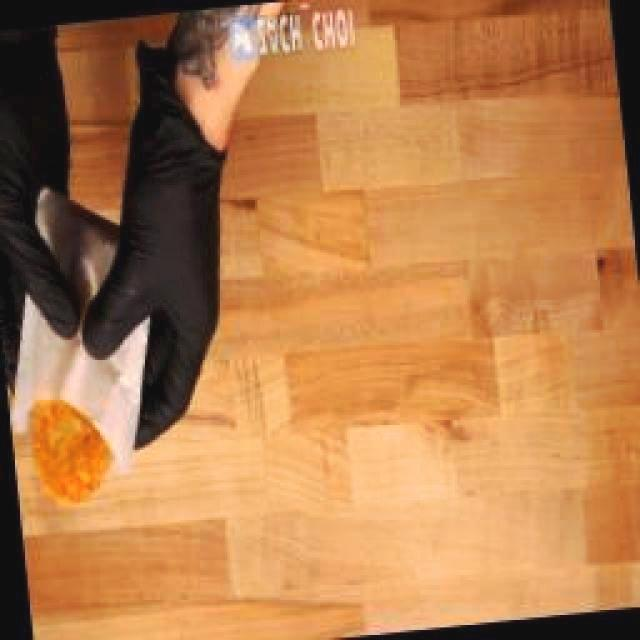Hashbrown: (32, 398, 110, 506)
